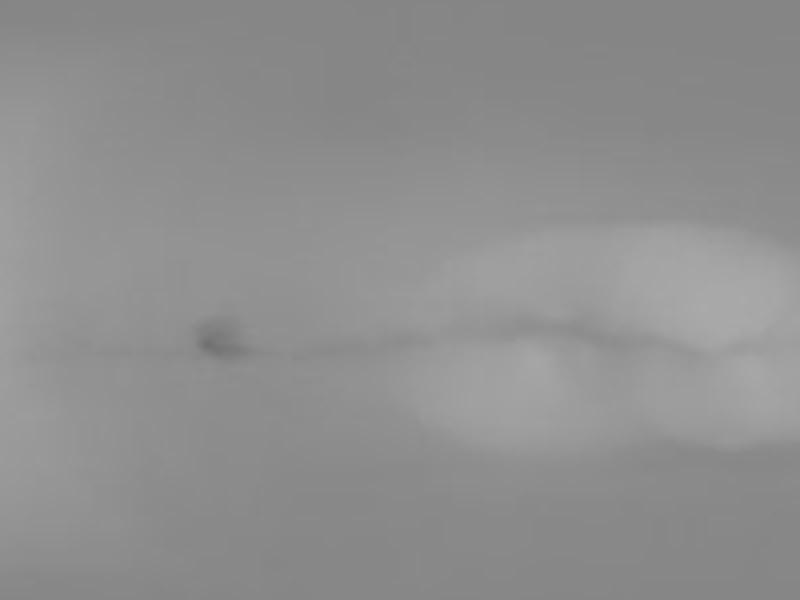defect: (196, 318, 244, 356)
